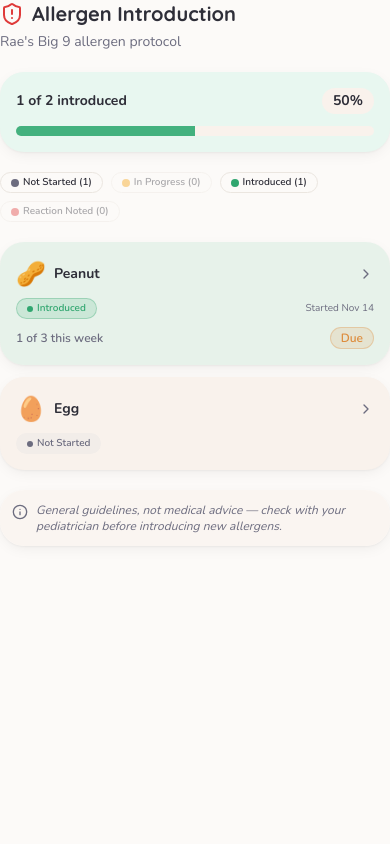
Test case: keep it on the menu › hides Had it today from a viewer but still shows progress
The image size is (390, 844).
Click the text "Peanut" at (77, 274), box [54, 265, 100, 283]
(page scrolled)
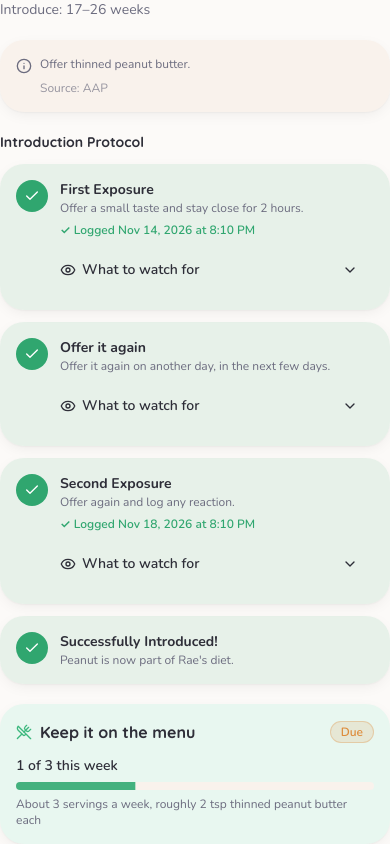
Check: the text "1 of 3 this week" is shown, box [16, 756, 118, 775]
Check: the text "Offer thinned peanut butter." is shown, box [40, 56, 190, 72]
